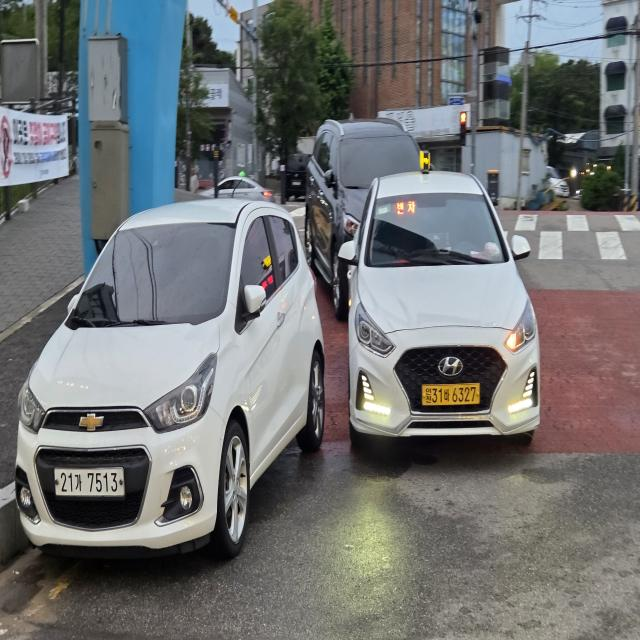car: (16, 175, 336, 601), (346, 148, 548, 486), (295, 113, 464, 331)
